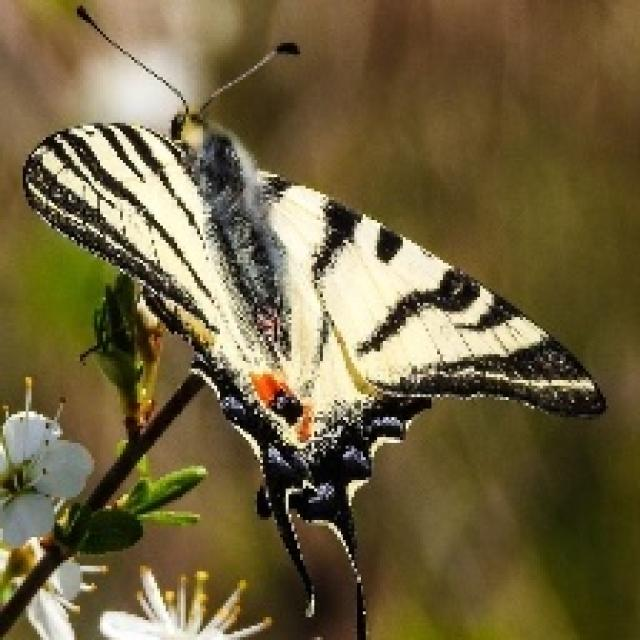butterfly: (17, 0, 609, 637)
